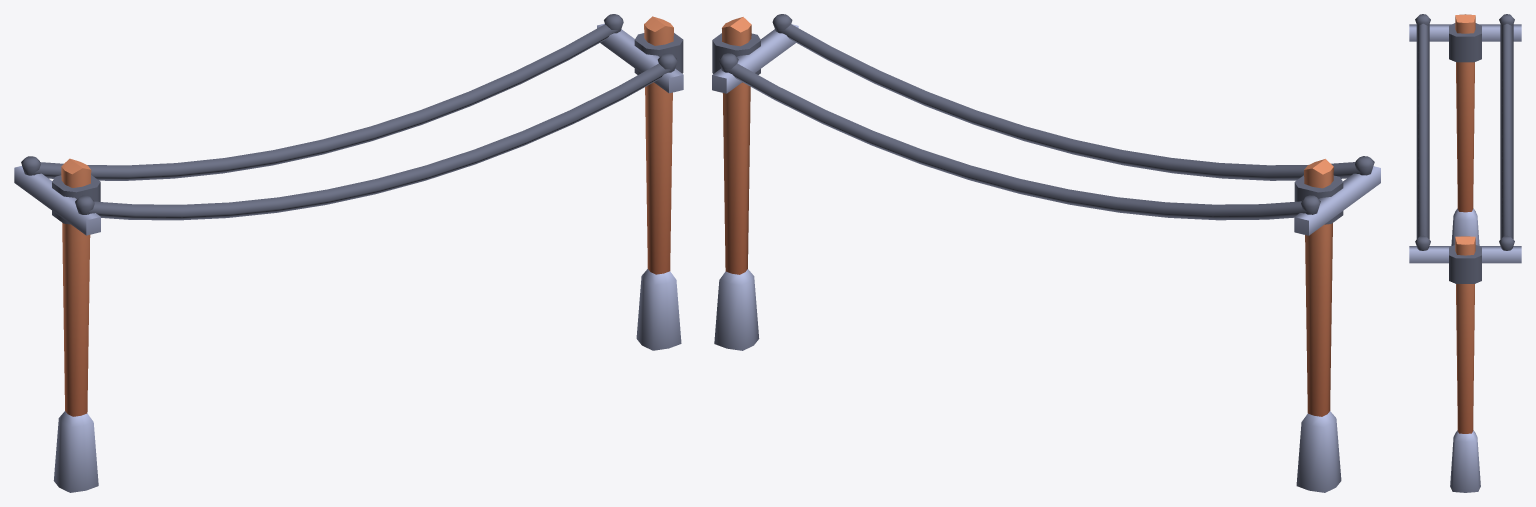
File: electricity-pole-wide.glb
3 renders of one model, left to right at view 1: azimuth 30°, elevation 25°; view 2: azimuth 150°, elevation 25°; view 3: azimuth 270°, elevation 25°, orthographic. The views are drawn at different scales.
Visible parts, largest first — view 1: electricity-pole-wide; view 2: electricity-pole-wide; view 3: electricity-pole-wide.
Part boxes in pixels (x1,y1,x2,y2): electricity-pole-wide: (14, 14, 683, 492); electricity-pole-wide: (712, 14, 1380, 492); electricity-pole-wide: (1409, 14, 1521, 492).
Size of the model in its own units: 1.08 by 0.525 by 0.2142.
Materials: 1 (1 with a texture image).
